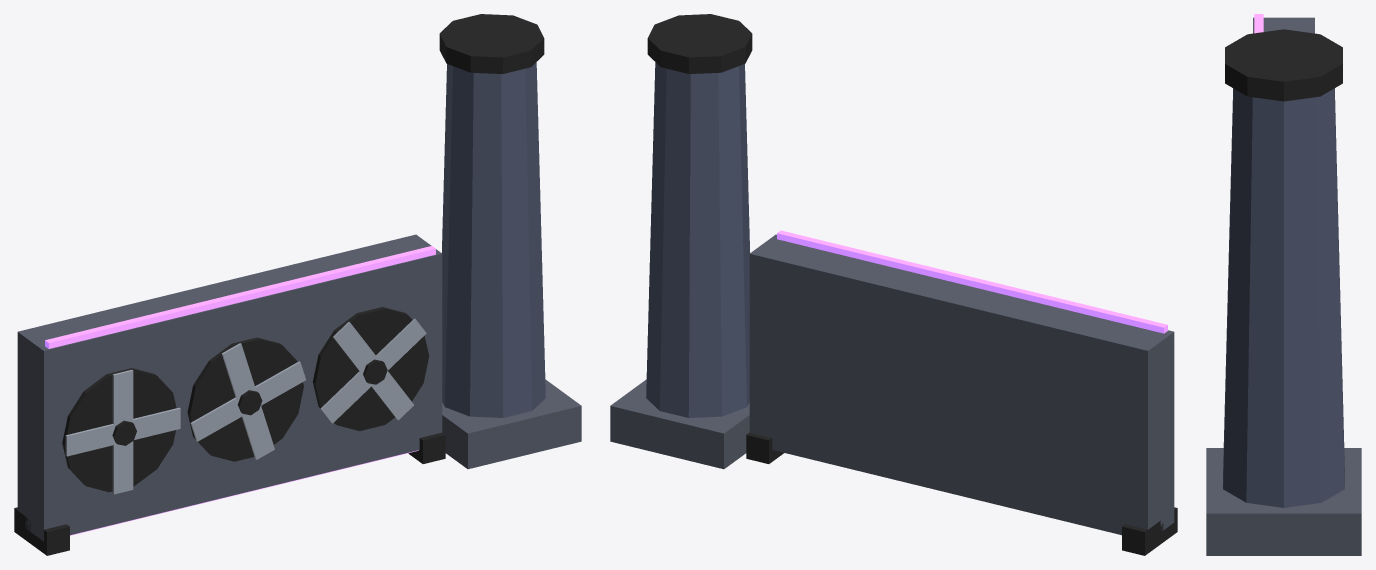
File: welt_luefter_schlot.glb
3 renders of one model, left to right at view 1: azimuth 30°, elevation 25°; view 2: azimuth 150°, elevation 25°; view 3: azimuth 270°, elevation 25°, orthographic. The views are drawn at different scales.
Parts seen in each view (by area): view 1: welt_luefter_rahmen, luefter_1, luefter_2, luefter_3; view 2: welt_luefter_rahmen; view 3: welt_luefter_rahmen.
Boxes of the visible parts, x1=… form: welt_luefter_rahmen: x1=14, y1=14, x2=581, y2=555; luefter_1: x1=62, y1=368, x2=180, y2=494; luefter_2: x1=187, y1=337, x2=305, y2=461; luefter_3: x1=313, y1=307, x2=429, y2=430; welt_luefter_rahmen: x1=610, y1=14, x2=1177, y2=555; welt_luefter_rahmen: x1=1206, y1=14, x2=1361, y2=555.
Size of the model in its own units: 4.55 by 3.32 by 1.
